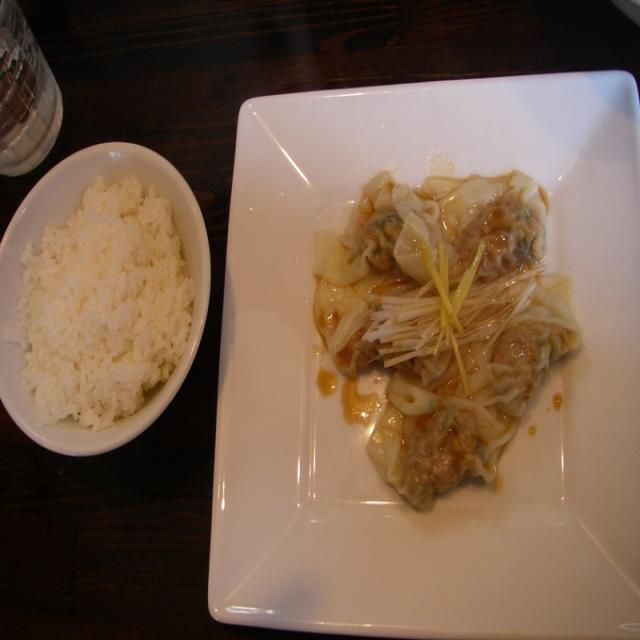Rice: (2, 118, 195, 438)
